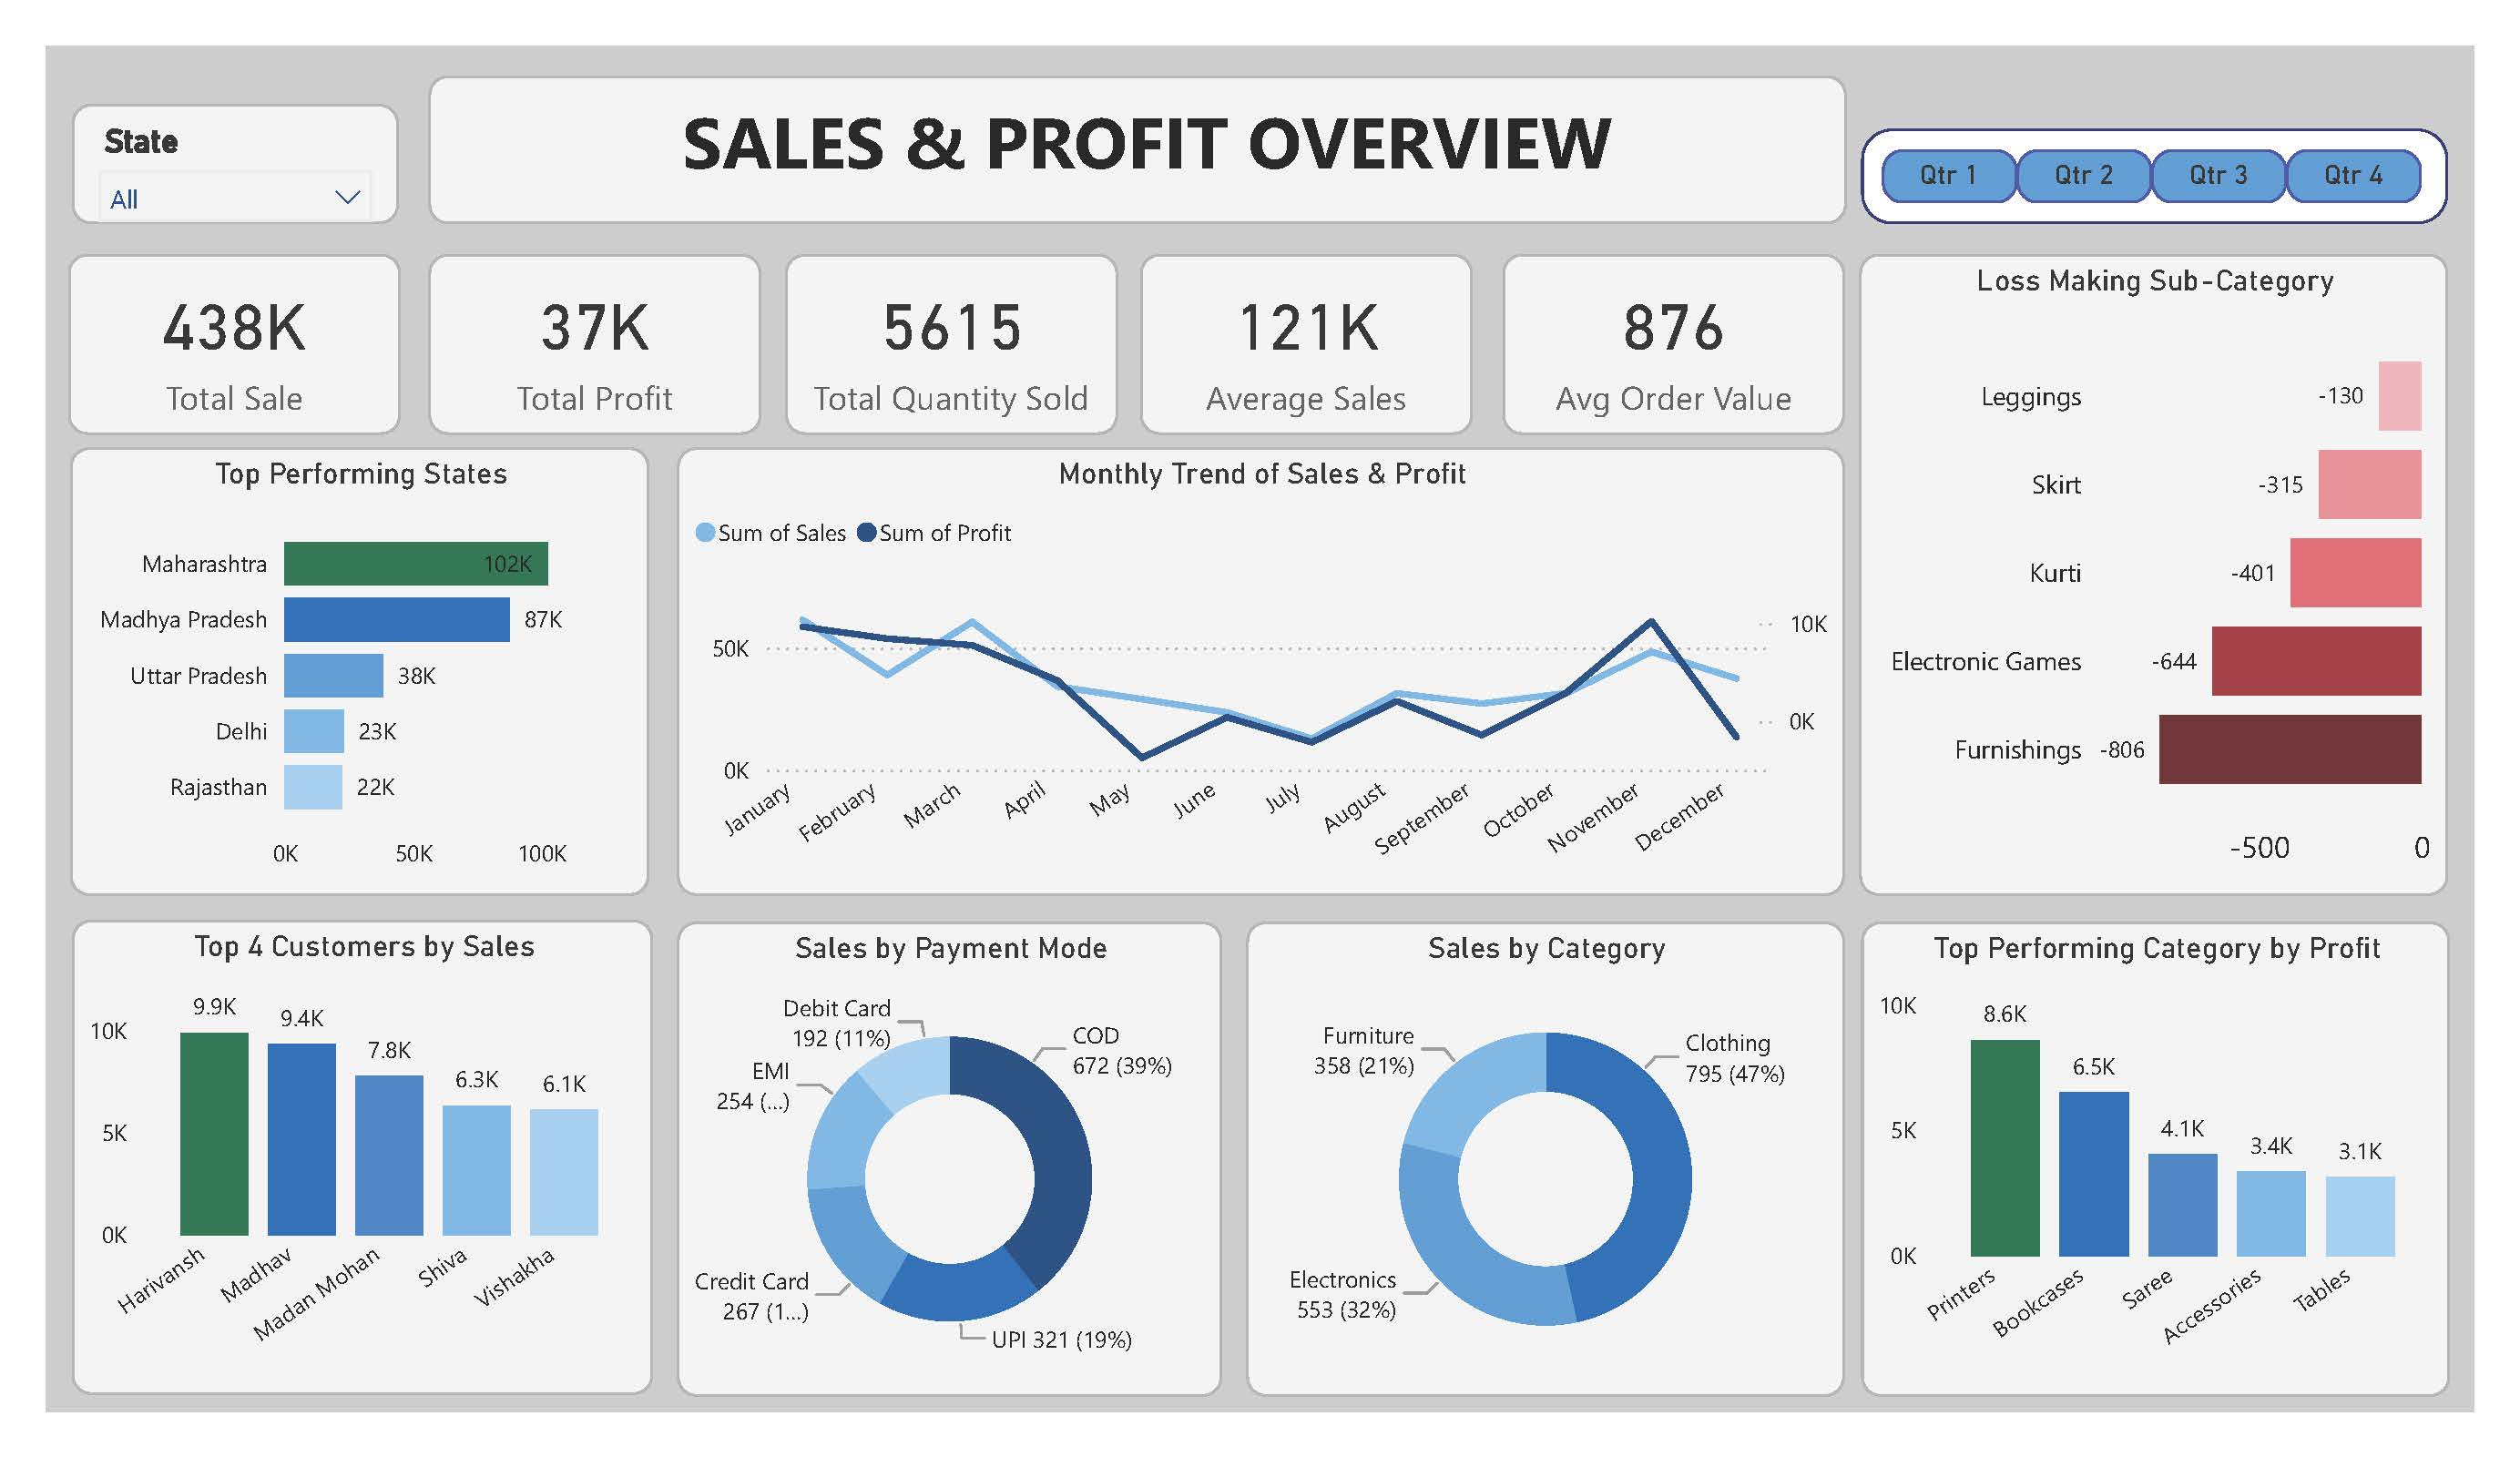

The dashboard page shown, as its layout file describes it:
{"tool":"powerbi","page":{"name":"Sales  & Profit","canvas":[1280,720],"ordinal":0},"visuals":[{"type":"textbox","box":[201.6,15.6,747.1,78.1],"z":0},{"type":"donutChart","title":"Sales by Category","fields":{"Category":["Details.Category"],"Y":["Details.Quantity"]},"box":[633.3,461.7,315,250],"z":1000},{"type":"donutChart","title":"Sales by Payment Mode","fields":{"Y":["Details.Quantity"],"Category":["Details.PaymentMode"]},"box":[333.3,461.7,286.7,250],"z":2000},{"type":"card","fields":{"Values":["Details.Amount"]},"box":[11.7,110,175,95],"z":3000},{"type":"card","fields":{"Values":["Details.Profit"]},"box":[201.7,110,175,95],"z":4000},{"type":"card","fields":{"Values":["Details.Quantity"]},"box":[390,110,175,95],"z":5000},{"type":"card","fields":{"Values":["Details.AOV"]},"box":[576.7,110,175,95],"z":6000},{"type":"barChart","title":"Top Performing States","fields":{"Category":["Orders (1).State"],"Y":["Details.Amount"]},"box":[13.3,211.7,305,236.7],"z":7000},{"type":"columnChart","title":"Top 4 Customers by Sales","fields":{"Category":["Orders (1).CustomerName"],"Y":["Details.Amount"]},"box":[14.1,461.1,306.3,250.1],"z":8000},{"type":"advancedSlicerVisual","fields":{"Values":["Orders (1).Order Date.Variation.Date Hierarchy.Quarter"]},"box":[956.5,43.8,309.5,50],"z":9000},{"type":"lineChart","title":"Monthly Trend of Sales & Profit","fields":{"Category":["Orders (1).Order Date.Variation.Date Hierarchy.Month"],"Y":["Details.Amount"],"Y2":["Details.Profit"]},"box":[333.3,211.7,615,236.7],"z":10000},{"type":"card","fields":{"Values":["Details.Average Order Value"]},"box":[768.3,110,180,95],"z":11000},{"type":"columnChart","title":"Top Performing Category by Profit","fields":{"Category":["Details.Sub-Category"],"Y":["Details.Profit"]},"box":[956.7,461.7,310,250],"z":12000},{"type":"barChart","title":"Loss Making Sub-Category","fields":{"Category":["Details.Sub-Category"],"Y":["Details.Profit"]},"box":[956.2,109.6,309.9,338.3],"z":13000},{"type":"slicer","fields":{"Values":["Orders (1).State"]},"box":[14.1,31.3,171.9,62.5],"z":14000}]}

Visuals, with their boxes on the page's 1280x720 design canvas (x1, y1, x2, y2). These are canvas units, not pixel positions in the 2520x1457 screenshot, which may show the page scaled, cropped or inside an application window:
textbox: detection(202, 16, 949, 94)
"Sales by Category" donutChart: detection(633, 462, 948, 712)
"Sales by Payment Mode" donutChart: detection(333, 462, 620, 712)
card - Details.Amount: detection(12, 110, 187, 205)
card - Details.Profit: detection(202, 110, 377, 205)
card - Details.Quantity: detection(390, 110, 565, 205)
card - Details.AOV: detection(577, 110, 752, 205)
"Top Performing States" barChart: detection(13, 212, 318, 448)
"Top 4 Customers by Sales" columnChart: detection(14, 461, 320, 711)
advancedSlicerVisual - Orders (1).Order Date.Variation.Date Hierarchy.Quarter: detection(956, 44, 1266, 94)
"Monthly Trend of Sales & Profit" lineChart: detection(333, 212, 948, 448)
card - Details.Average Order Value: detection(768, 110, 948, 205)
"Top Performing Category by Profit" columnChart: detection(957, 462, 1267, 712)
"Loss Making Sub-Category" barChart: detection(956, 110, 1266, 448)
slicer - Orders (1).State: detection(14, 31, 186, 94)
